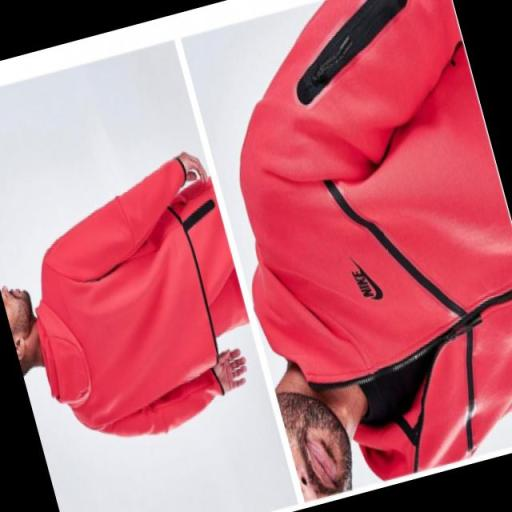Nike: (364, 264, 385, 304), (352, 267, 373, 298)
